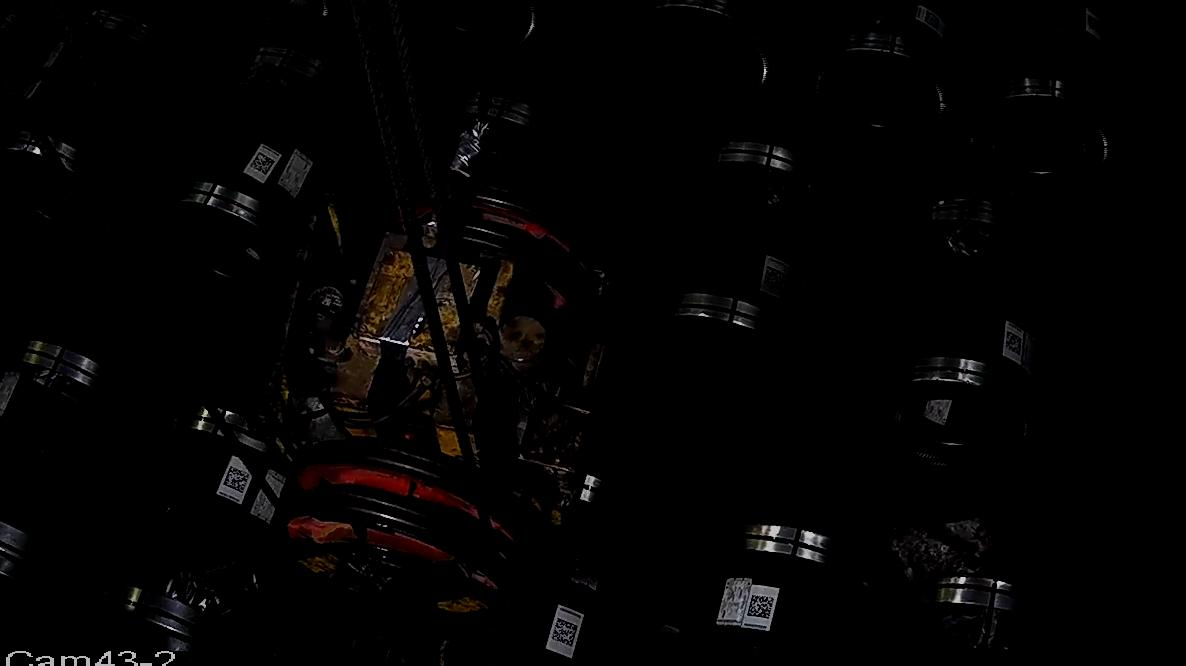data matrix: (551, 617, 581, 649), (222, 465, 252, 496), (746, 593, 777, 623), (761, 264, 788, 294), (250, 151, 277, 177), (1004, 331, 1026, 359), (923, 9, 943, 33), (1087, 15, 1104, 36)
